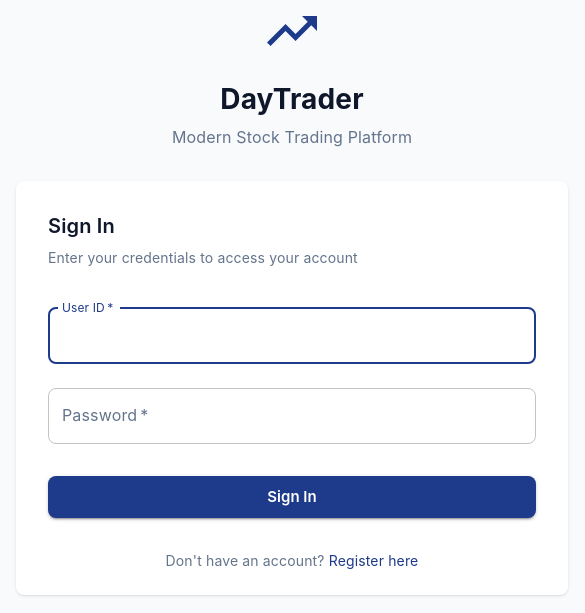
Test: LoginPage › disables form fields while loading
In the field labelled "User ID *": point(292, 336) [48,308,536,364], type "testuser"
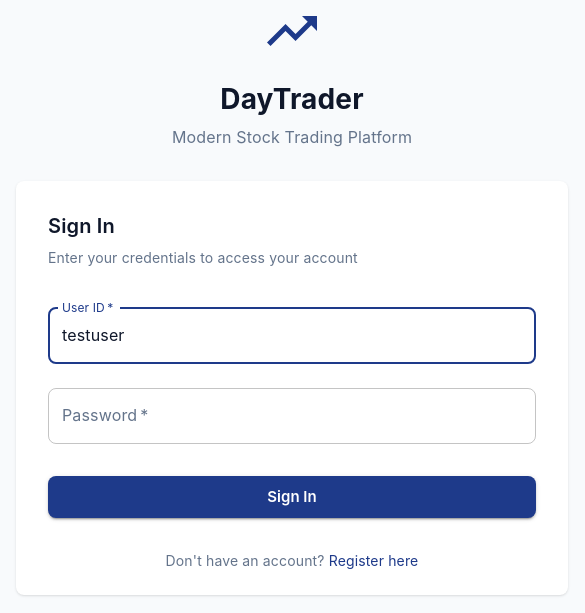
In the password field labelled "Password *": point(292, 416) [48,388,536,444], type "password123"
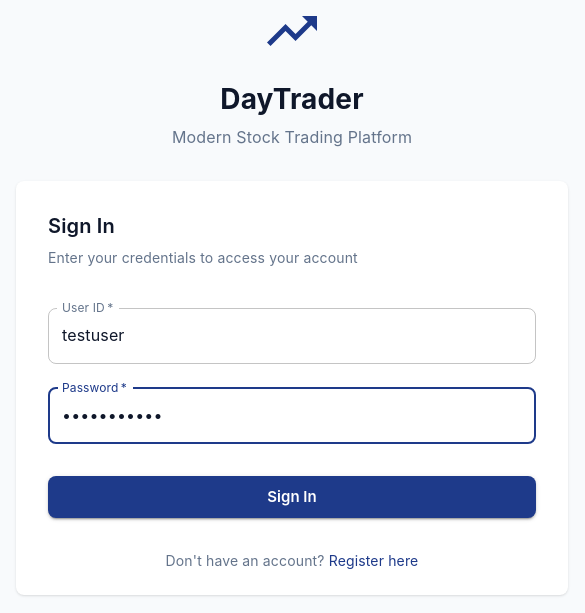
Click the button "Sign In": point(292, 497) [48,476,536,518]
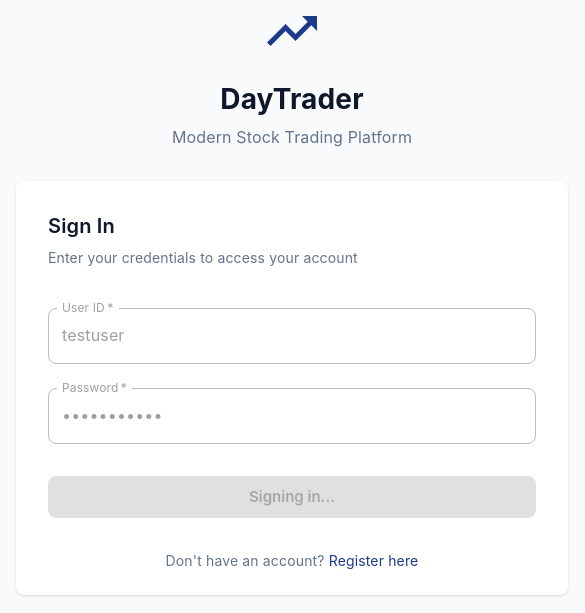
Result: the field labelled "User ID *" is disabled at [48,308,536,364]
Result: the password field labelled "Password *" is disabled at [48,388,536,444]
Result: the button named "sign in" is disabled at [48,476,536,518]
